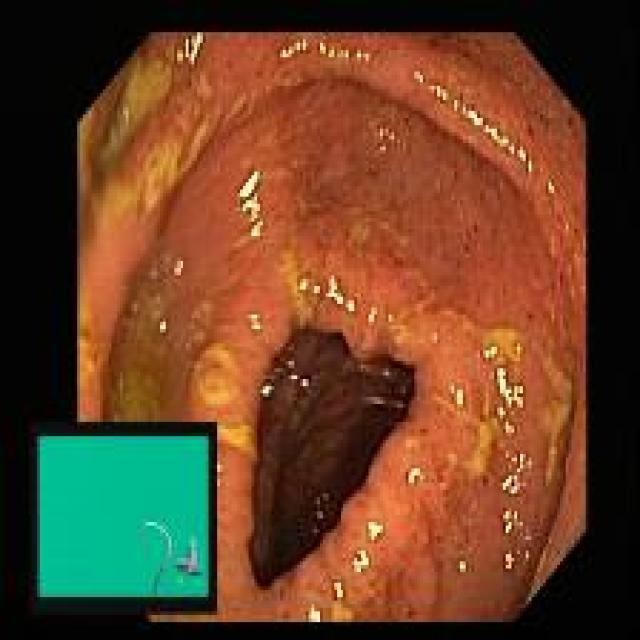ulcerative-colitis: (79, 31, 585, 622)
